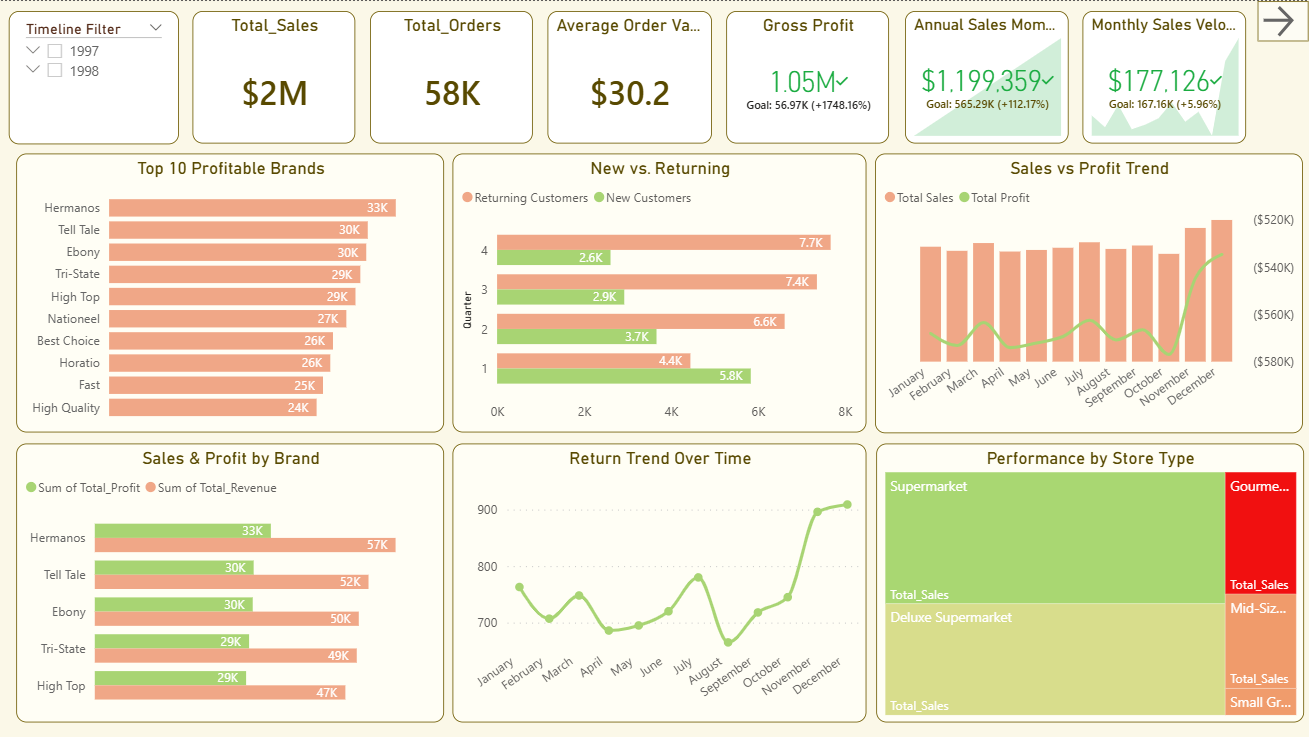

The page's visual inventory and layout, read from the dashboard file:
{"tool":"powerbi","page":{"name":"Overview","canvas":[1280,720],"ordinal":0},"visuals":[{"type":"cardVisual","title":"Total_Sales","fields":{"Data":["Dax_Measures.Total Sales"]},"box":[188.8,10,159.6,129.3],"z":0,"group":"g1"},{"type":"lineChart","title":"Return Trend Over Time ","fields":{"Category":["Dim_Calendar.Full Date.Variation.Date Hierarchy.Year","Dim_Calendar.Full Date.Variation.Date Hierarchy.Quarter","Dim_Calendar.Full Date.Variation.Date Hierarchy.Month","Dim_Calendar.Full Date.Variation.Date Hierarchy.Day"],"Y":["Dax_Measures.Total Returns"]},"box":[443.1,432.6,405,273],"z":0},{"type":"kpi","title":"Gross Profit","fields":{"Indicator":["Dax_Measures.Gross Profit"],"TrendLine":["Dim_Calendar.Month"],"Goal":["Dax_Measures.Previous Year Sales"]},"box":[711.4,10,159.6,129.3],"z":1000,"group":"g1"},{"type":"lineClusteredColumnComboChart","title":"Sales vs Profit Trend ","fields":{"Category":["Dim_Calendar.Full Date.Variation.Date Hierarchy.Year","Dim_Calendar.Full Date.Variation.Date Hierarchy.Quarter","Dim_Calendar.Full Date.Variation.Date Hierarchy.Month","Dim_Calendar.Full Date.Variation.Date Hierarchy.Day"],"Y":["Dax_Measures.Total Sales"],"Y2":["Dax_Measures.Total Profit"]},"box":[856.2,149.1,418.2,273.8],"z":1000},{"type":"cardVisual","title":"Average Order Value","fields":{"Data":["Dax_Measures.Average Order Value"]},"box":[536.4,10,160.8,129.3],"z":2000,"group":"g1"},{"type":"treemap","title":"Performance by Store Type","fields":{"Group":["vw_Store_Efficiency.Store_type","vw_Store_Efficiency.Store_name"],"Values":["Sum(vw_Store_Efficiency.Sales_Per_Sqft)","Sum(vw_Store_Efficiency.Total_Sales)"]},"box":[856.7,432.6,418,273],"z":2000},{"type":"cardVisual","title":"Total_Orders","fields":{"Data":["Dax_Measures.Total Orders"]},"box":[362.6,10,159.6,129.3],"z":3000,"group":"g1"},{"type":"clusteredBarChart","title":"Sales & Profit by Brand","fields":{"Category":["vw_Brand_Performance.Product_brand"],"Y":["Sum(vw_Brand_Performance.Total_Profit)","Sum(vw_Brand_Performance.Total_Revenue)"]},"box":[16,432.6,418.6,273],"z":3000},{"type":"kpi","title":"Annual Sales Momentum","fields":{"Goal":["Dax_Measures.Previous Year Sales"],"TrendLine":["Dim_Calendar.Year"],"Indicator":["Dax_Measures.Total Sales"]},"box":[885.2,10,160,129.3],"z":4000,"group":"g1"},{"type":"clusteredBarChart","title":"Top 10 Profitable Brands","fields":{"Category":["vw_Brand_Performance.Product_brand"],"Y":["Sum(vw_Brand_Performance.Total_Profit)"]},"box":[16.1,148.7,418.5,273],"z":4000},{"type":"kpi","title":"Monthly Sales Velocity","fields":{"Indicator":["Dax_Measures.Total Sales"],"TrendLine":["Dim_Calendar.Month"],"Goal":["Dax_Measures.Previous Month Sales"]},"box":[1059.4,10,160,129.3],"z":5000,"group":"g1"},{"type":"clusteredBarChart","title":"New vs. Returning","fields":{"Category":["Dim_Calendar.Year Hierarchy.Year","Dim_Calendar.Year Hierarchy.Quarter","Dim_Calendar.Year Hierarchy.Month","Dim_Calendar.Year Hierarchy.Day"],"Y":["Dax_Measures.Returning Customers","Dax_Measures.New Customers"]},"box":[443.1,148.7,405,273],"z":5000},{"type":"slicer","title":"Reporting Period","fields":{"Values":["Dim_Calendar.Year Hierarchy.Year","Dim_Calendar.Year Hierarchy.Quarter","Dim_Calendar.Year Hierarchy.Month","Dim_Calendar.Year Hierarchy.Day"]},"box":[8,10,166.6,130.5],"z":6000},{"type":"actionButton","box":[1230.1,0,50.1,39.6],"z":7000},{"type":"group","id":"g1","title":"Group 1","box":[188.8,10,1030.6,129.3],"z":8000}]}

Visuals, with their boxes in screenshot pixels (x1, y1, x2, y2), scaled from the page's 1280x720 canvas onto the 1309x737 screenshot:
"Total_Sales" cardVisual: (x1=193, y1=10, x2=356, y2=143)
"Return Trend Over Time " lineChart: (x1=453, y1=443, x2=867, y2=722)
"Gross Profit" kpi: (x1=728, y1=10, x2=891, y2=143)
"Sales vs Profit Trend " lineClusteredColumnComboChart: (x1=876, y1=153, x2=1303, y2=433)
"Average Order Value" cardVisual: (x1=549, y1=10, x2=713, y2=143)
"Performance by Store Type" treemap: (x1=876, y1=443, x2=1304, y2=722)
"Total_Orders" cardVisual: (x1=371, y1=10, x2=534, y2=143)
"Sales & Profit by Brand" clusteredBarChart: (x1=16, y1=443, x2=444, y2=722)
"Annual Sales Momentum" kpi: (x1=905, y1=10, x2=1069, y2=143)
"Top 10 Profitable Brands" clusteredBarChart: (x1=16, y1=152, x2=444, y2=432)
"Monthly Sales Velocity" kpi: (x1=1083, y1=10, x2=1247, y2=143)
"New vs. Returning" clusteredBarChart: (x1=453, y1=152, x2=867, y2=432)
"Reporting Period" slicer: (x1=8, y1=10, x2=179, y2=144)
actionButton: (x1=1258, y1=0, x2=1308, y2=41)
"Group 1" group: (x1=193, y1=10, x2=1247, y2=143)
